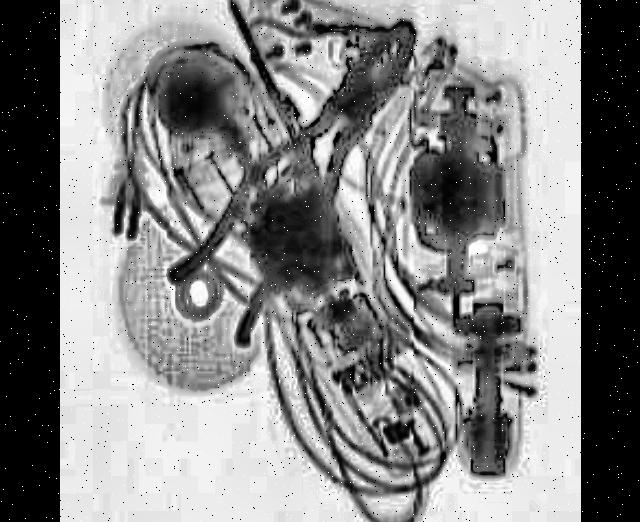Pliers: (168, 0, 443, 365)
